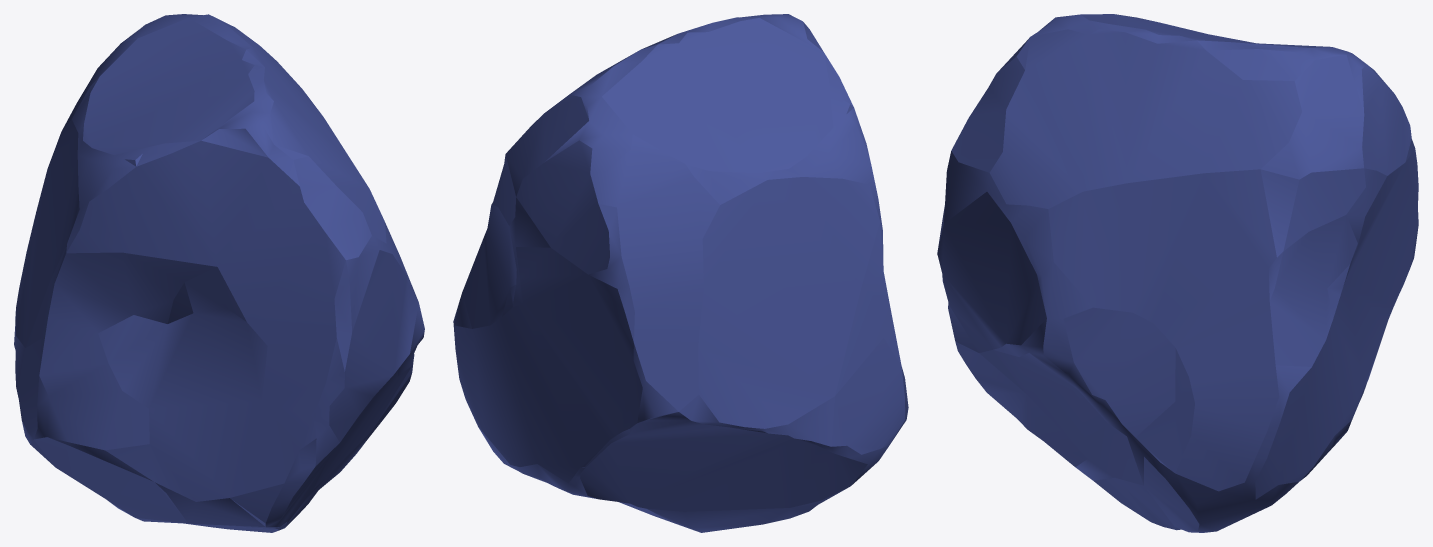
Rendered from steen1nooutline.fbx.
3 renders of one model, left to right at view 1: azimuth 30°, elevation 25°; view 2: azimuth 150°, elevation 25°; view 3: azimuth 270°, elevation 25°, orthographic. The views are drawn at different scales.
Visible parts, largest first — view 1: Cube.004; view 2: Cube.004; view 3: Cube.004.
Boxes of the visible parts, x1,y1,x2,y2 form: Cube.004: (14, 14, 424, 532); Cube.004: (453, 14, 908, 532); Cube.004: (937, 14, 1418, 532).
Bounding box in the file's own units: 281 × 326 × 299.
